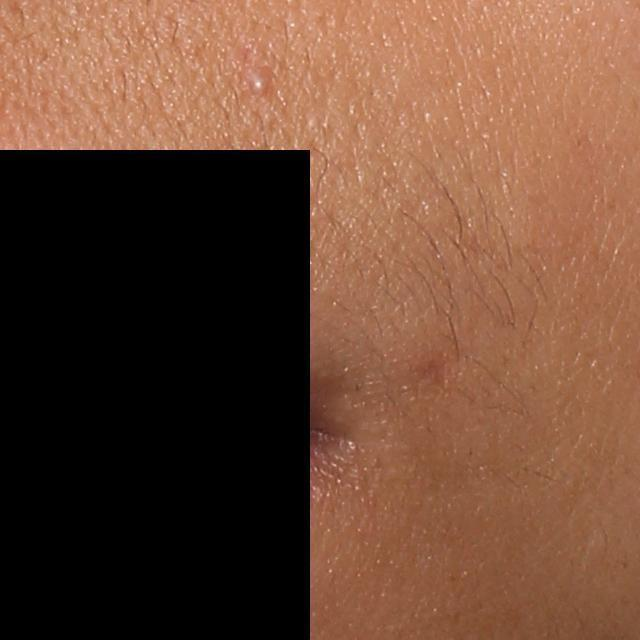pustule: (248, 67, 268, 95)
